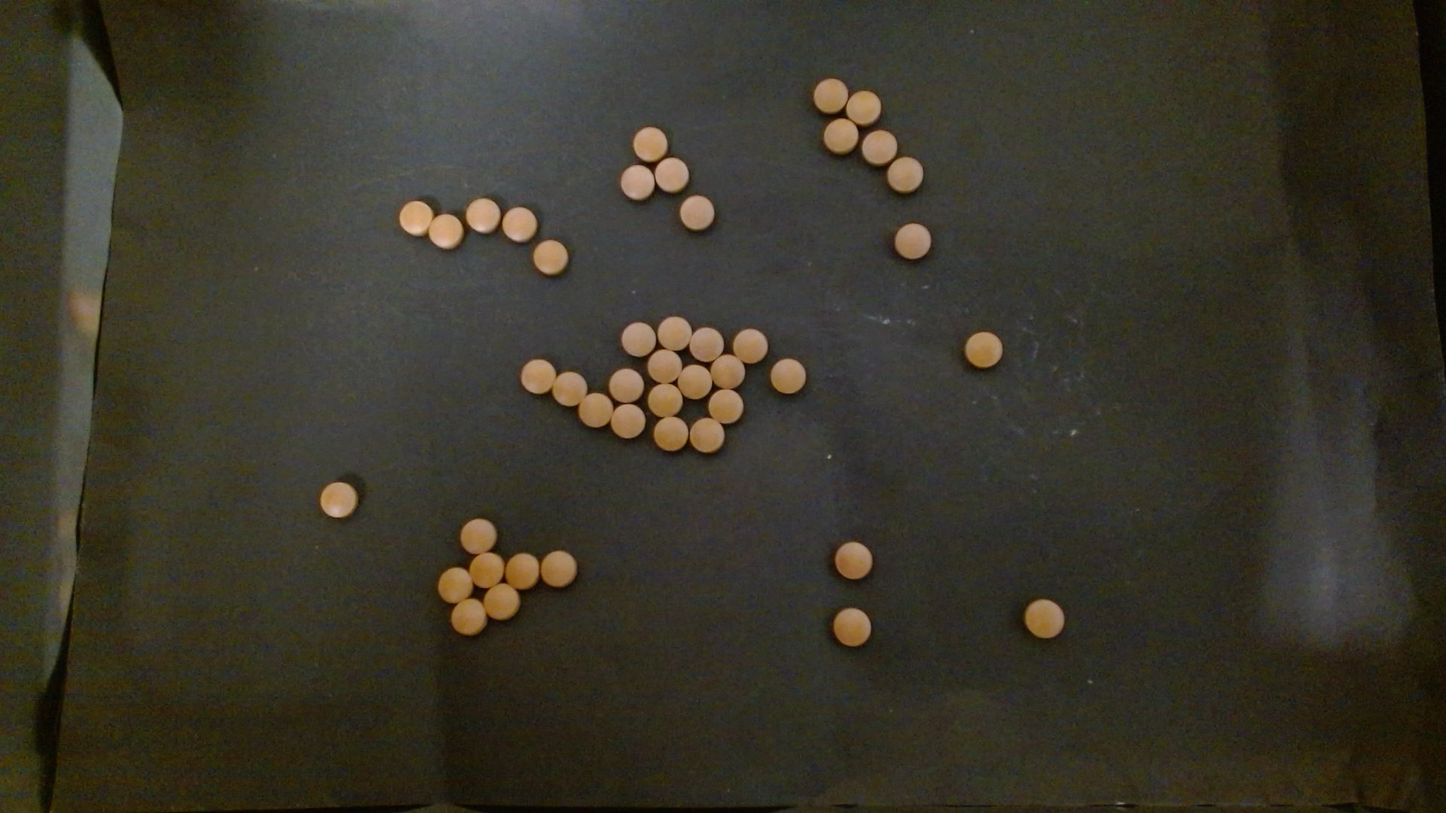Circle: (1022, 598, 1066, 641), (830, 606, 874, 649), (831, 540, 875, 582), (318, 478, 362, 519), (540, 550, 577, 588), (450, 598, 487, 636), (964, 331, 1002, 368), (459, 517, 496, 554), (894, 223, 932, 259), (679, 194, 715, 231), (887, 156, 923, 193), (484, 583, 520, 620), (862, 129, 898, 166), (731, 327, 767, 364), (770, 358, 806, 394), (532, 239, 568, 275), (520, 358, 556, 394), (652, 416, 688, 452), (468, 551, 504, 587), (620, 321, 656, 357), (688, 418, 725, 453), (502, 206, 537, 243), (437, 567, 472, 604), (398, 199, 433, 236), (578, 392, 613, 428), (552, 370, 587, 406), (609, 403, 645, 438), (708, 388, 743, 424), (654, 157, 689, 193), (609, 367, 644, 403), (823, 118, 858, 154), (709, 354, 744, 390), (689, 325, 724, 361), (620, 164, 654, 201), (465, 196, 499, 233), (813, 77, 847, 114), (657, 315, 691, 352), (648, 382, 683, 417), (846, 90, 880, 126), (505, 552, 538, 589), (633, 125, 667, 160), (429, 213, 462, 249), (677, 364, 711, 398), (647, 349, 681, 383)
